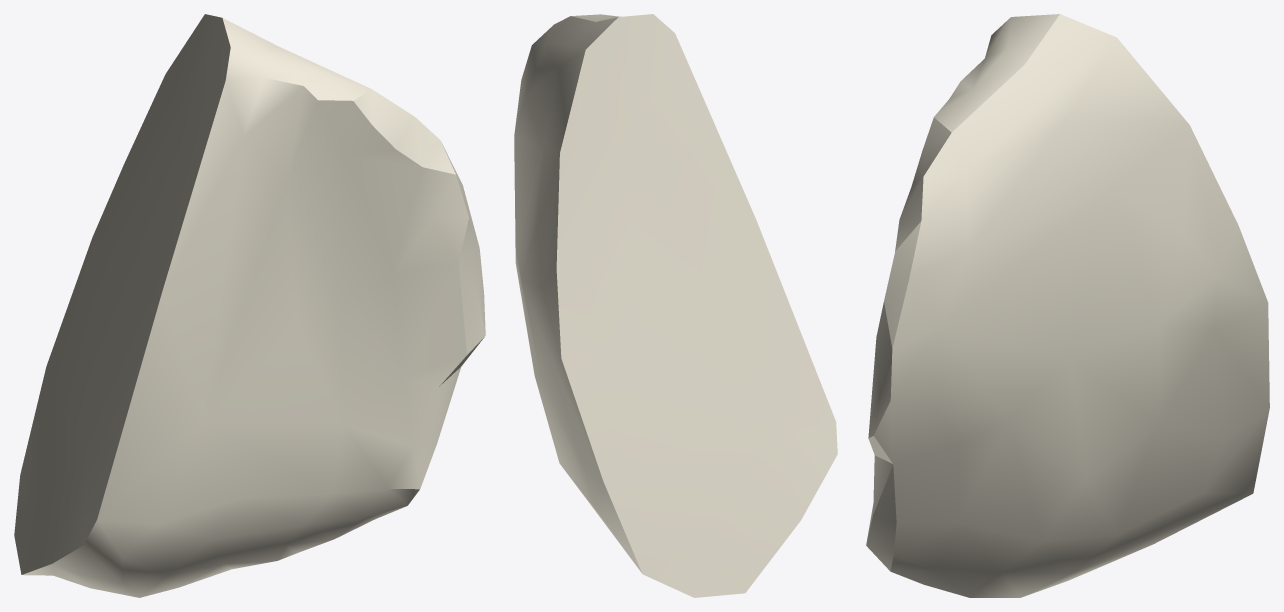
Rendered from fma12100_mm2398.glb.
3 views of the same model, side by side, from view 1: azimuth 30°, elevation 25°; view 2: azimuth 150°, elevation 25°; view 3: azimuth 270°, elevation 25° (orthographic). The views are drawn at different scales.
Visible parts, largest first — view 1: FMA12100_MM2398; view 2: FMA12100_MM2398; view 3: FMA12100_MM2398.
Part boxes in pixels (x1,y1,x2,y2): FMA12100_MM2398: [14, 14, 485, 597]; FMA12100_MM2398: [514, 14, 837, 597]; FMA12100_MM2398: [866, 14, 1269, 597].
Size of the model in its own units: 0.00757 by 0.0107 by 0.00656.
